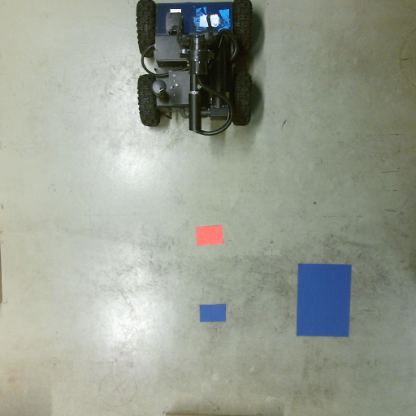Blue: (295, 261, 352, 339), (198, 302, 228, 323)
Jaguar: (133, 0, 256, 140)
Red: (193, 224, 224, 248)
